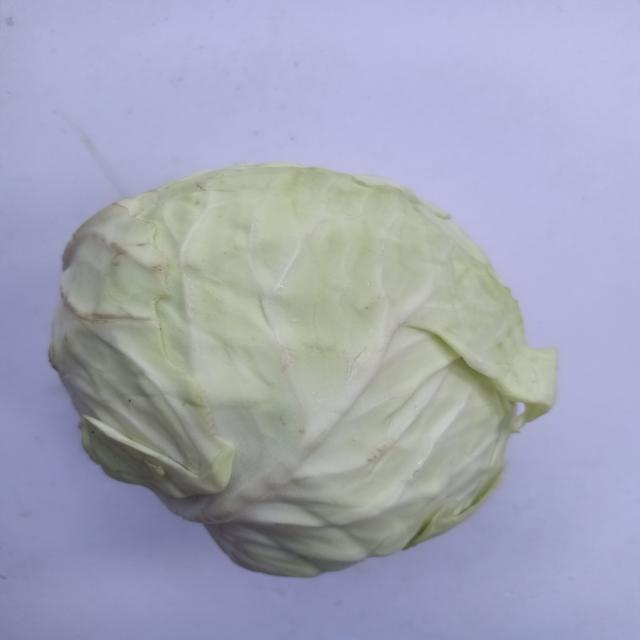Cabbage: (32, 142, 594, 590)
